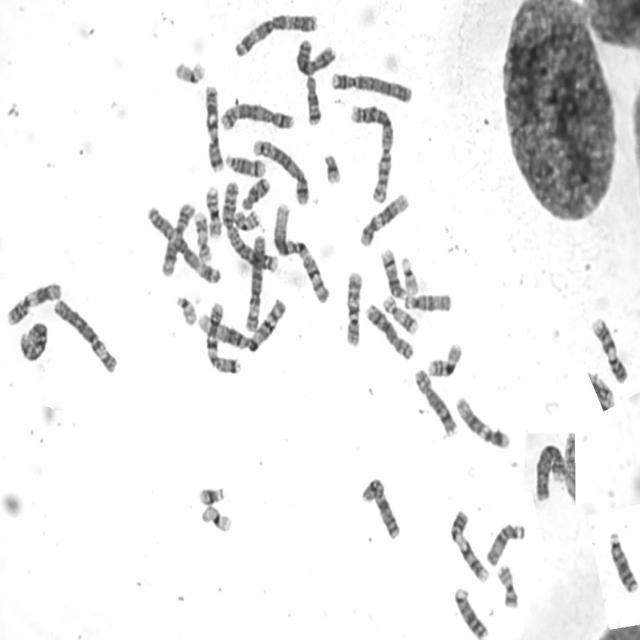A1: (270, 199, 332, 305), (197, 294, 288, 355)
A2: (219, 177, 279, 276), (348, 99, 395, 206)
A3: (145, 202, 223, 285), (232, 10, 320, 59)
B4: (329, 68, 413, 105), (533, 441, 566, 502)
B5: (249, 136, 311, 208), (218, 100, 296, 131)
C10: (342, 268, 365, 348), (19, 319, 49, 363)
C11: (159, 199, 197, 279), (4, 278, 63, 327)
C12: (453, 393, 512, 451), (357, 190, 410, 248)
C6: (52, 294, 119, 374), (242, 232, 268, 332)
C7: (202, 300, 242, 376), (202, 83, 225, 174)
C8: (412, 366, 458, 439), (363, 300, 415, 363)
C9: (448, 507, 490, 584), (590, 316, 628, 384)
D13: (450, 585, 490, 639), (606, 530, 639, 594)
D14: (378, 245, 407, 301), (223, 150, 268, 180)
D15: (484, 520, 526, 568), (402, 290, 454, 313)
E16: (424, 338, 464, 379), (203, 183, 223, 239)
E17: (380, 292, 420, 336), (192, 208, 213, 265)
E18: (239, 173, 273, 213), (304, 72, 322, 128)
F19: (198, 501, 234, 534), (172, 58, 207, 86)
F20: (496, 561, 520, 611), (232, 206, 261, 232)
G21: (196, 482, 227, 508), (322, 150, 342, 186)
G22: (399, 253, 420, 296), (173, 292, 198, 327)
X: (359, 473, 401, 542), (293, 34, 338, 76)
